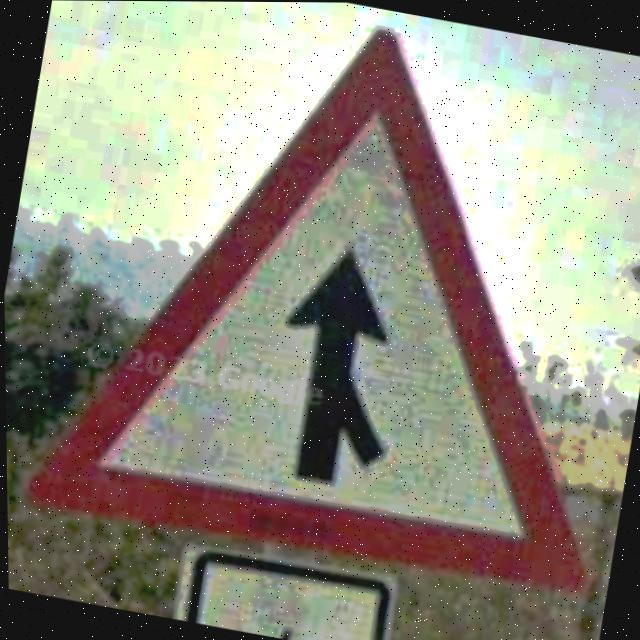rightmerge: (21, 29, 586, 594)
